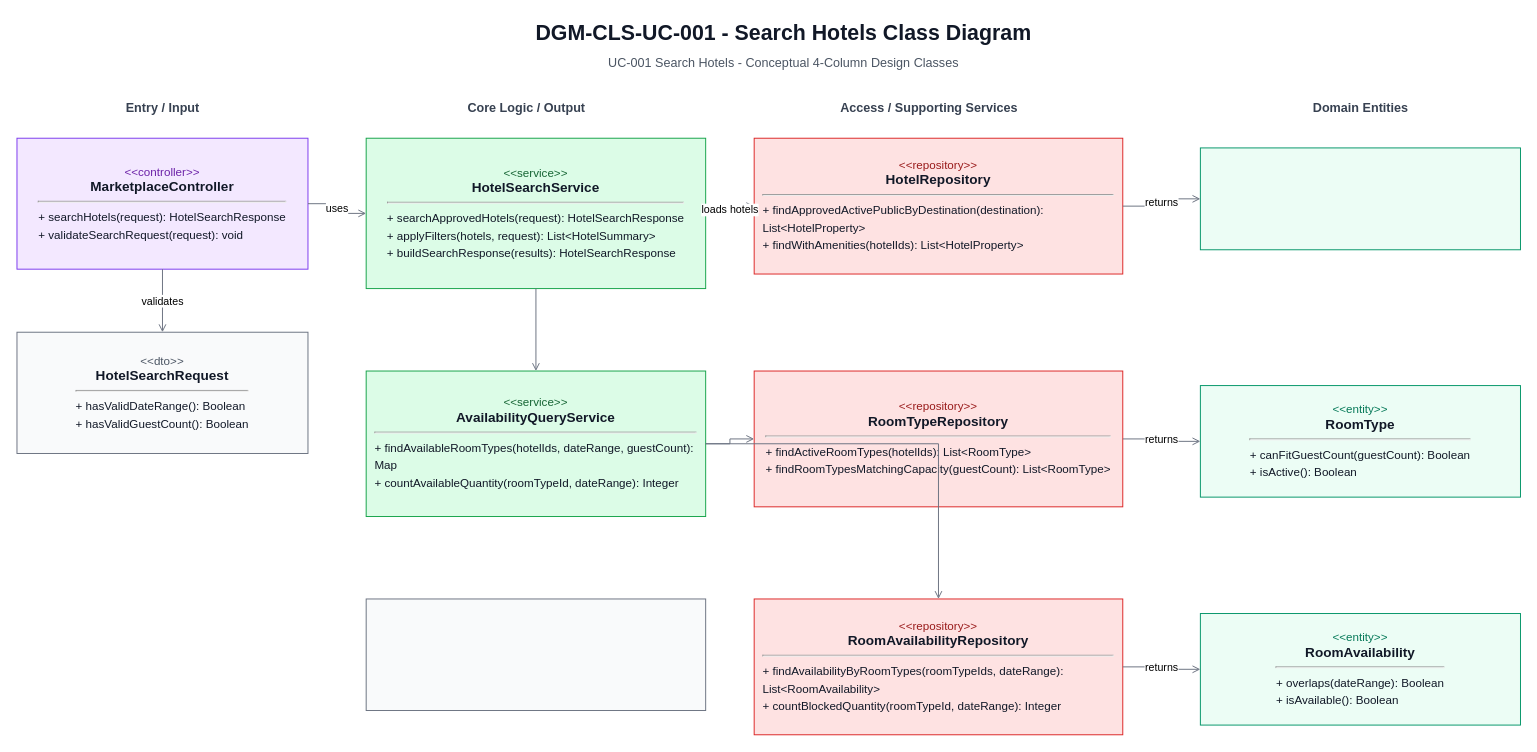
This 1537x752 diagram has some shape labels left out. Here are the shapes that lost their labels. From the top down, the centre of each, then its label:
At point (1359, 198): "<<entity>> HotelProperty + isApprovedActiveAndPublic(): Boolean".
At point (535, 654): "<<dto>> HotelSearchResponse + includeResultSummary(): void".
